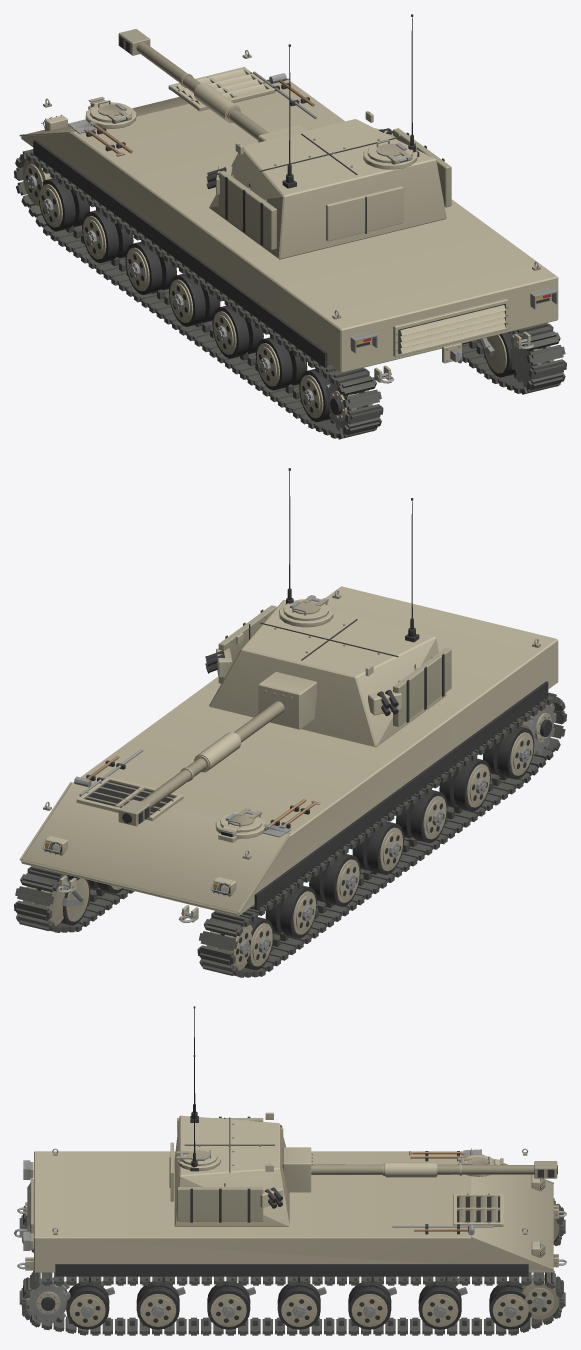
The model's file is rus_spg_gvoz.glb.
The picture shows the model from 3 angles, top to bottom: view 1: azimuth 30°, elevation 25°; view 2: azimuth 150°, elevation 25°; view 3: azimuth 270°, elevation 25°; orthographic projection. The views are drawn at different scales.
Parts seen in each view (by area): view 1: body, turret, barrel; view 2: body, turret, barrel; view 3: body, turret, barrel.
Part boxes in pixels (<box>): body: <box>14,50,566,439</box>; turret: <box>206,14,451,259</box>; barrel: <box>118,29,306,142</box>; body: <box>14,586,566,977</box>; turret: <box>205,468,451,747</box>; barrel: <box>118,672,316,826</box>; body: <box>14,1148,566,1335</box>; turret: <box>169,1006,289,1226</box>; barrel: <box>282,1147,557,1192</box>.
Bounding box in the file's own units: 2.92 × 4.02 × 7.71.
